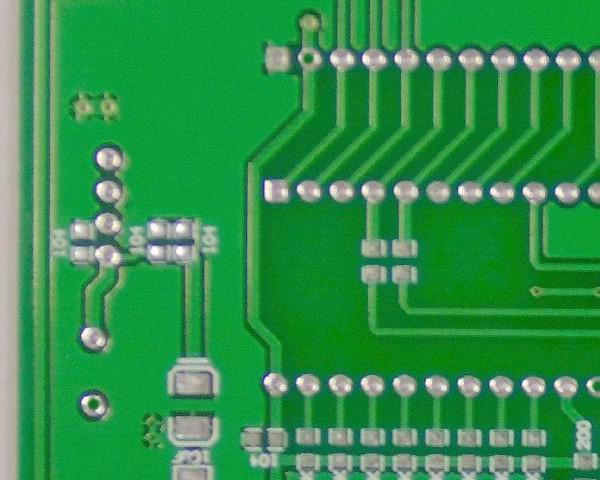missing hole: (77, 388, 113, 424), (292, 43, 328, 75)
